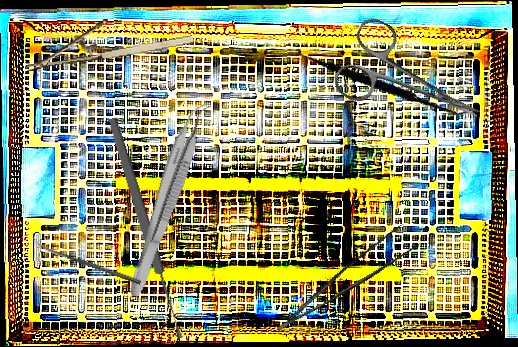Iris Scissors: (328, 13, 497, 155)
Needle Holder: (20, 7, 195, 72)
Spatula Surgical: (280, 11, 475, 153)
Surgical Spoon: (106, 116, 186, 341), (35, 242, 142, 285)
Tissue Forceps: (263, 220, 424, 332), (125, 98, 213, 302)
